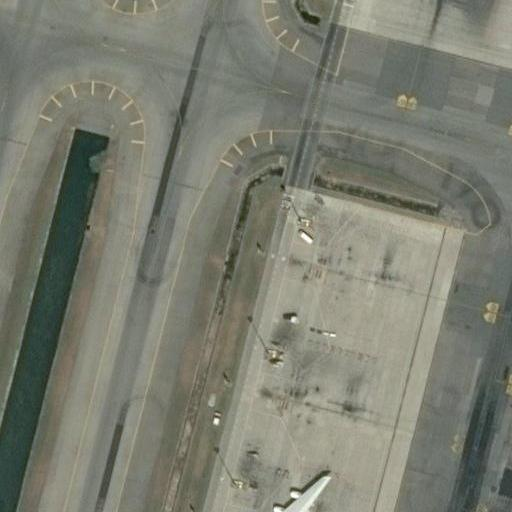Aircraft: (222, 471, 355, 512)
